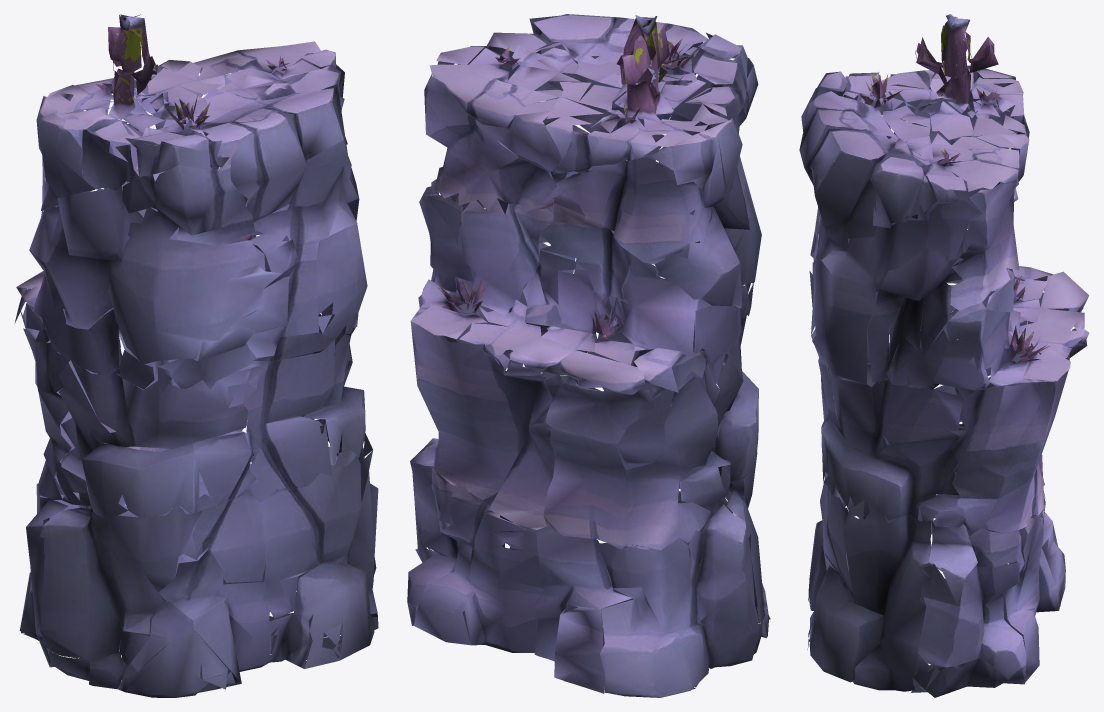
Rendered from paredao.glb.
3 views of the same model, side by side, from view 1: azimuth 30°, elevation 25°; view 2: azimuth 150°, elevation 25°; view 3: azimuth 270°, elevation 25° (orthographic). The views are drawn at different scales.
Parts seen in each view (by area): view 1: paredao; view 2: paredao; view 3: paredao.
Part boxes in pixels (box(x1,y1,x2,y2)): paredao: box(14, 14, 378, 697); paredao: box(407, 14, 770, 697); paredao: box(799, 14, 1089, 697).
Bounding box in the file's own units: 0.5623 × 1 × 0.4523.
Materials: 1 (1 with a texture image).
